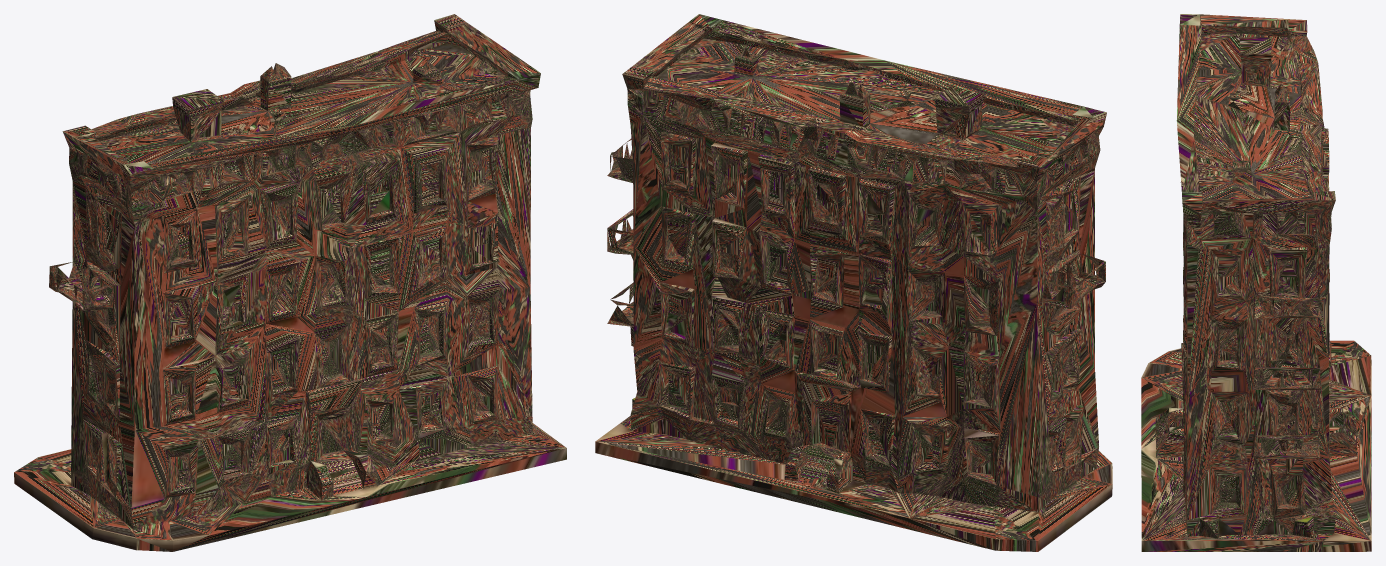
The model's file is town_flats.glb.
3 renders of one model, left to right at view 1: azimuth 30°, elevation 25°; view 2: azimuth 150°, elevation 25°; view 3: azimuth 270°, elevation 25°, orthographic. The views are drawn at different scales.
Parts seen in each view (by area): view 1: normalize; view 2: normalize; view 3: normalize.
Part boxes in pixels (x1,y1,x2,y2): normalize: (14,14,566,551); normalize: (595,14,1112,551); normalize: (1141,14,1371,551).
Size of the model in its own units: 1 by 0.8259 by 0.4679.
1 material, 1 textured.
